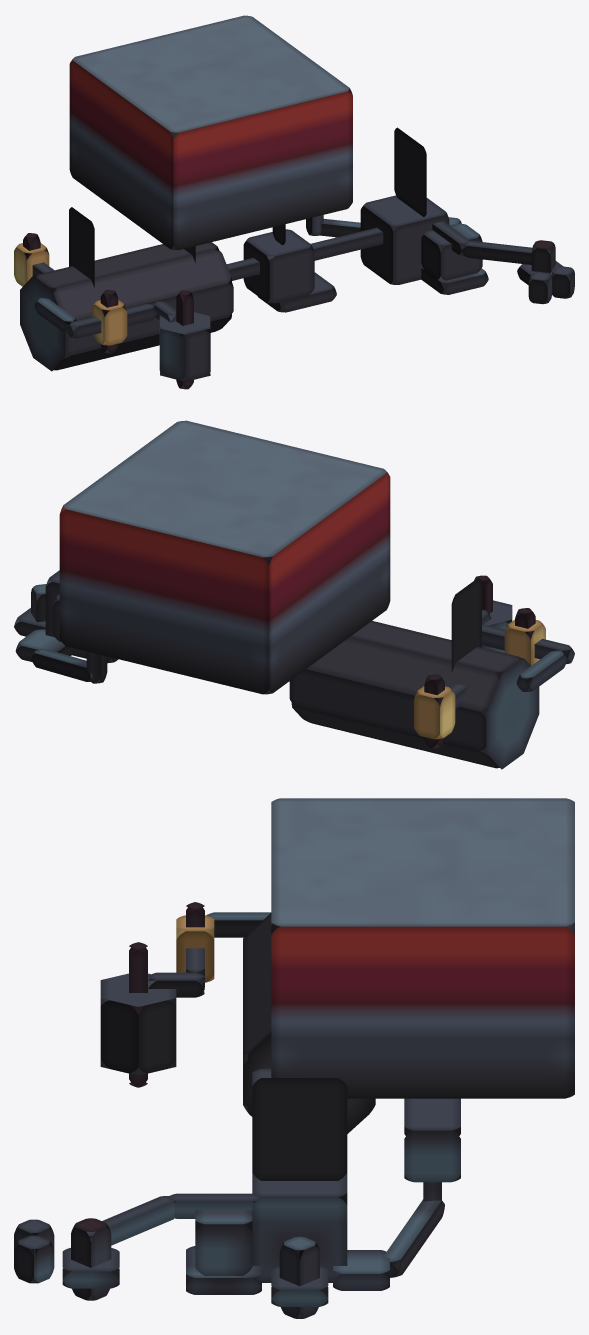
File: gc220ii_equipment_3.obj
3 views of the same model, one above another, from view 1: azimuth 30°, elevation 25°; view 2: azimuth 150°, elevation 25°; view 3: azimuth 270°, elevation 25° (orthographic). The views are drawn at different scales.
Visible parts, largest first — view 1: gc220ii_equipment_3; view 2: gc220ii_equipment_3; view 3: gc220ii_equipment_3.
Boxes of the visible parts, x1,y1,x2,y2 form: gc220ii_equipment_3: (14, 15, 574, 389); gc220ii_equipment_3: (14, 420, 574, 769); gc220ii_equipment_3: (14, 798, 574, 1318).
Size of the model in its own units: 2.53 by 1.12 by 1.85.
